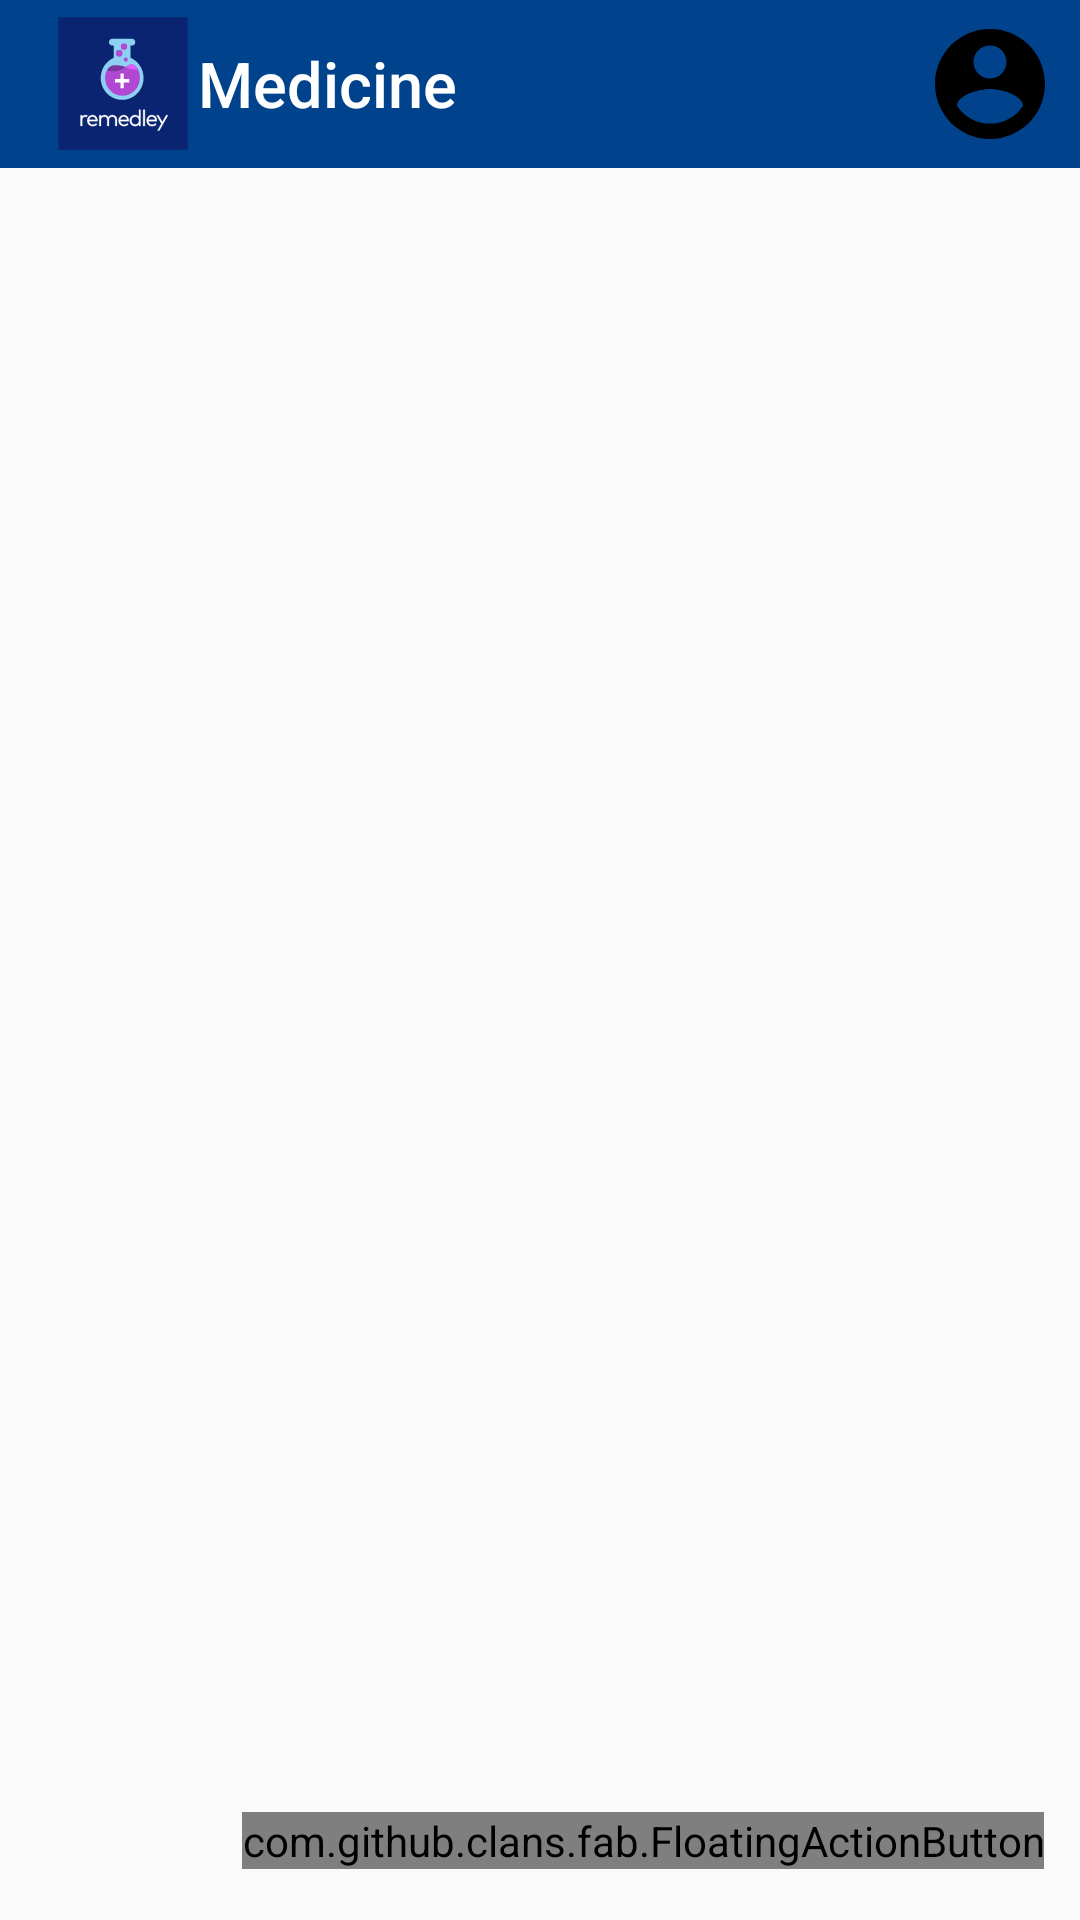

Named icons in this screenshot (1080px x 1920px) and their bounding boxes, detection(x1, y1, x2, y2):
account: detection(935, 29, 1045, 139)
